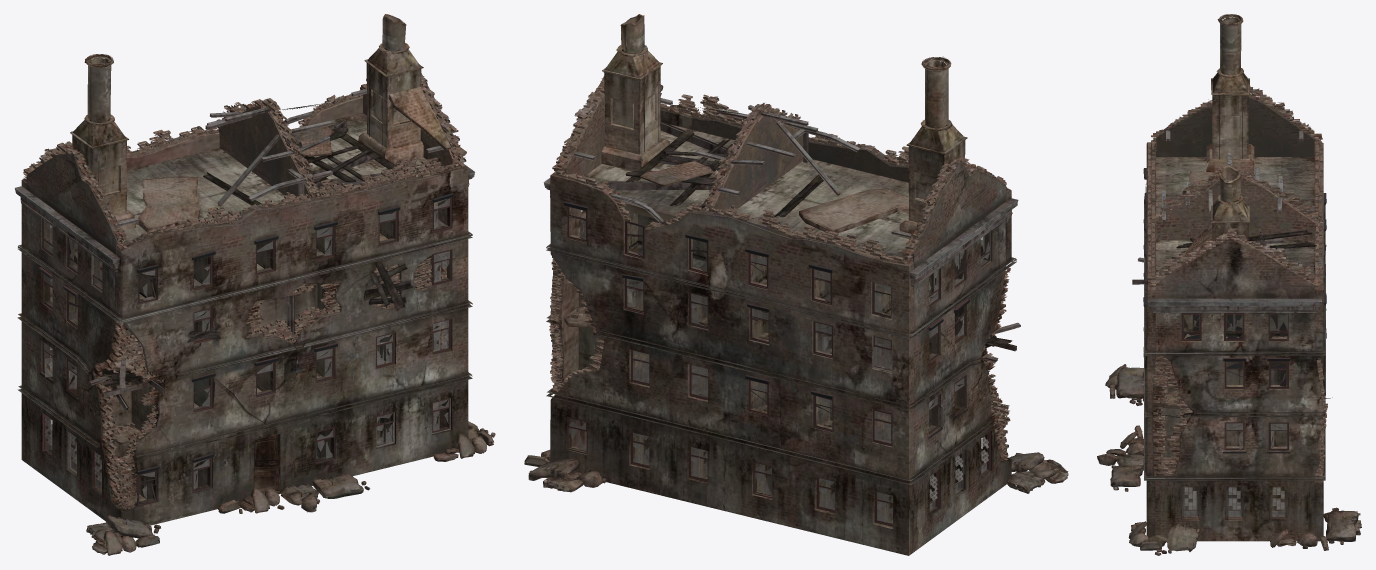
Rendered from burned-tower.glb.
The picture shows the model from 3 angles, left to right: view 1: azimuth 30°, elevation 25°; view 2: azimuth 150°, elevation 25°; view 3: azimuth 270°, elevation 25°; orthographic projection. The views are drawn at different scales.
Parts seen in each view (by area): view 1: XI_WDS_B_Mill.Shape; view 2: XI_WDS_B_Mill.Shape; view 3: XI_WDS_B_Mill.Shape.
Boxes of the visible parts, x1=… form: XI_WDS_B_Mill.Shape: x1=14, y1=14, x2=495, y2=555; XI_WDS_B_Mill.Shape: x1=524, y1=14, x2=1068, y2=555; XI_WDS_B_Mill.Shape: x1=1097, y1=14, x2=1361, y2=555.
Bounding box in the file's own units: 14.04 × 13.9 × 8.65.
Materials: 7 (7 with a texture image).
